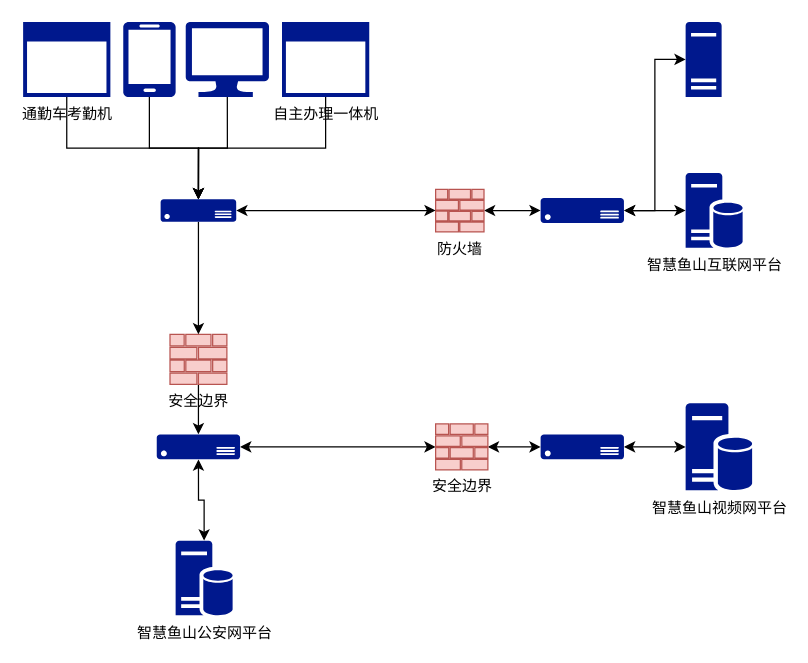
Some shapes in this 808 by 663 pixel diagram are drawn without their labels. Each missing label, with the centre of its shape:
ISC平台: (703,58)
电脑端: (226,58)
移动端: (148,58)
